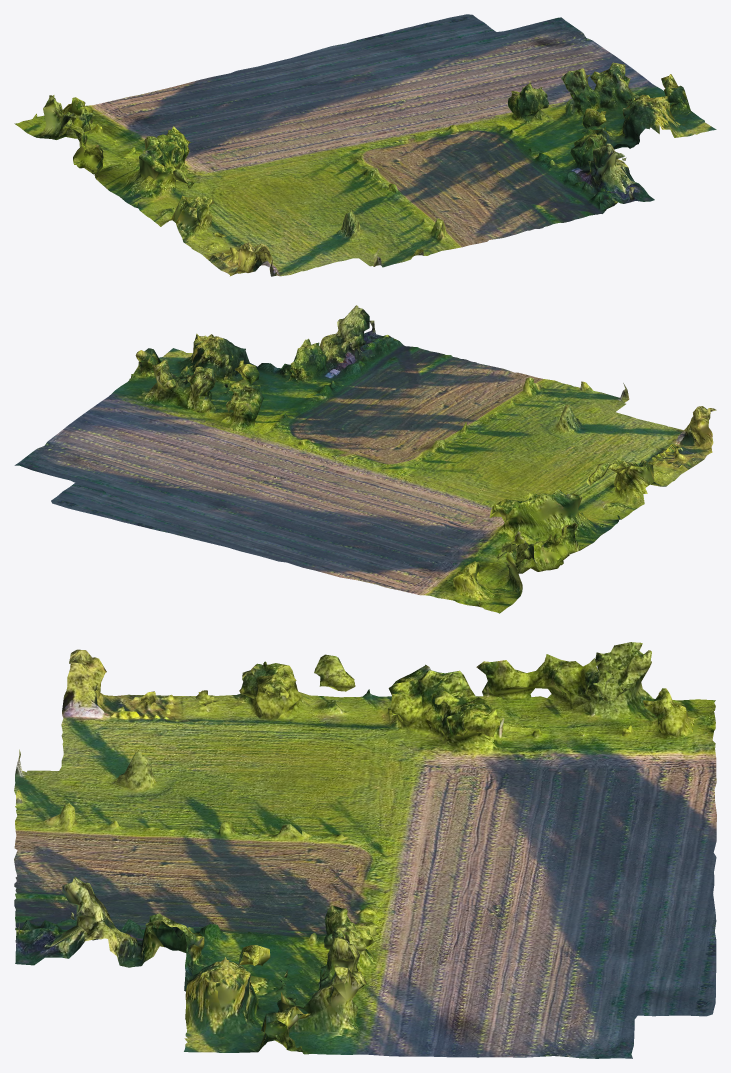
File: field-garden.glb
The picture shows the model from 3 angles, top to bottom: view 1: azimuth 30°, elevation 25°; view 2: azimuth 150°, elevation 25°; view 3: azimuth 270°, elevation 25°; orthographic projection. The views are drawn at different scales.
Visible parts, largest first — view 1: Object_2; view 2: Object_2; view 3: Object_2.
Part boxes in pixels (x1,y1,x2,y2): Object_2: (14,14,716,276); Object_2: (14,305,716,613); Object_2: (14,642,716,1058).
Size of the model in its own units: 92.78 by 9.85 by 76.52.
Materials: 1 (1 with a texture image).
